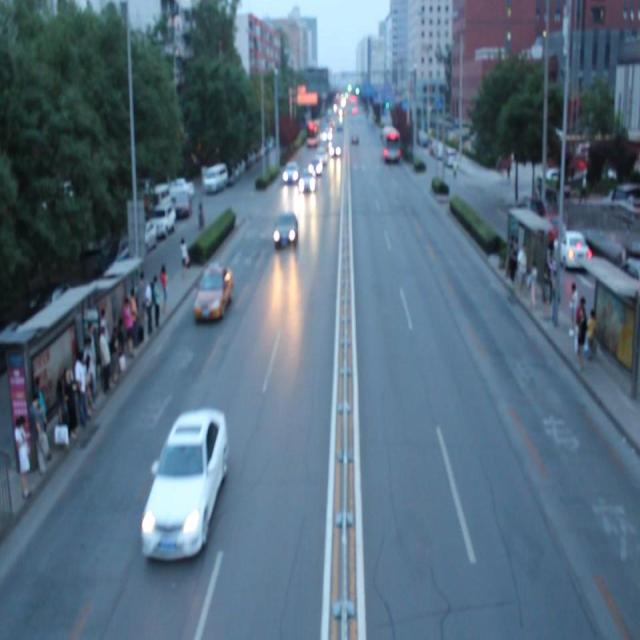car: (140, 408, 227, 560), (194, 257, 232, 321), (272, 208, 298, 246), (298, 168, 316, 193), (282, 158, 298, 182), (307, 157, 323, 176), (314, 146, 327, 162)
